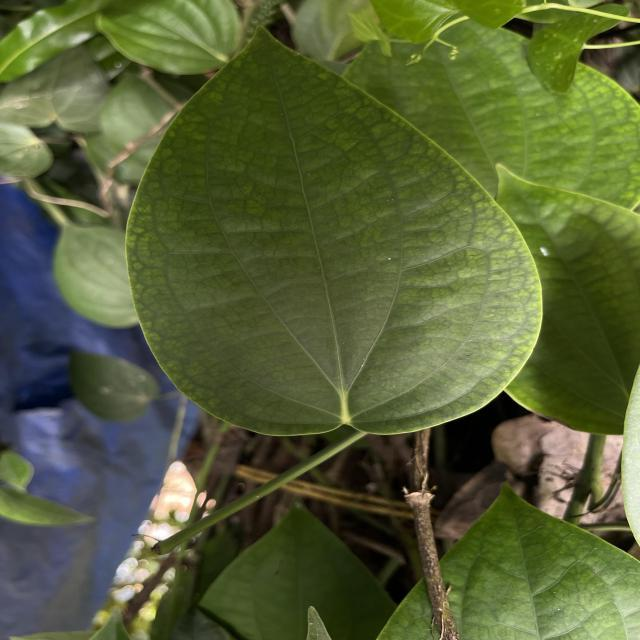Piper nigrum: (121, 19, 546, 441)
